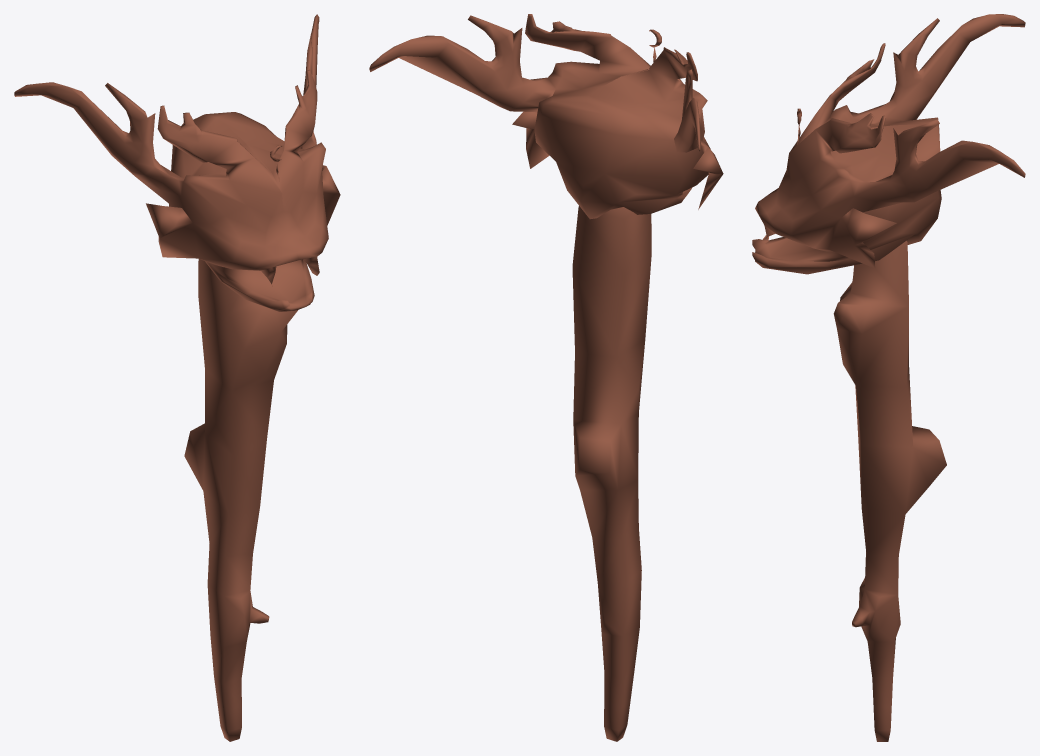
Rendered from Staff.fbx.
The picture shows the model from 3 angles, left to right: view 1: azimuth 30°, elevation 25°; view 2: azimuth 150°, elevation 25°; view 3: azimuth 270°, elevation 25°; orthographic projection. The views are drawn at different scales.
Visible parts, largest first — view 1: Staff; view 2: Staff; view 3: Staff.
Boxes of the visible parts, box(x1,y1,x2,y2) form: Staff: box(14, 14, 340, 741); Staff: box(369, 14, 723, 741); Staff: box(752, 14, 1025, 741).
Bounding box in the file's own units: 119 × 245 × 90.24.
